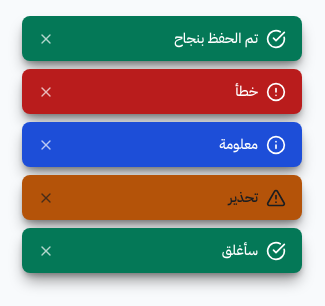
Scenario: Toast › dismisses a toast via the close button
Expected: the text "سأغلق" is shown, x1=222 y1=240 x2=258 y2=261
Click the button named "إغلاق" in the row of "سأغلق" at (46, 250), box x1=38 y1=242 x2=54 y2=258
Wait 300 ms
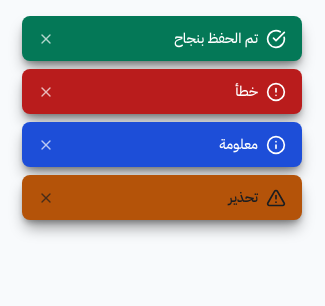
Expected: the text "سأغلق" is gone
